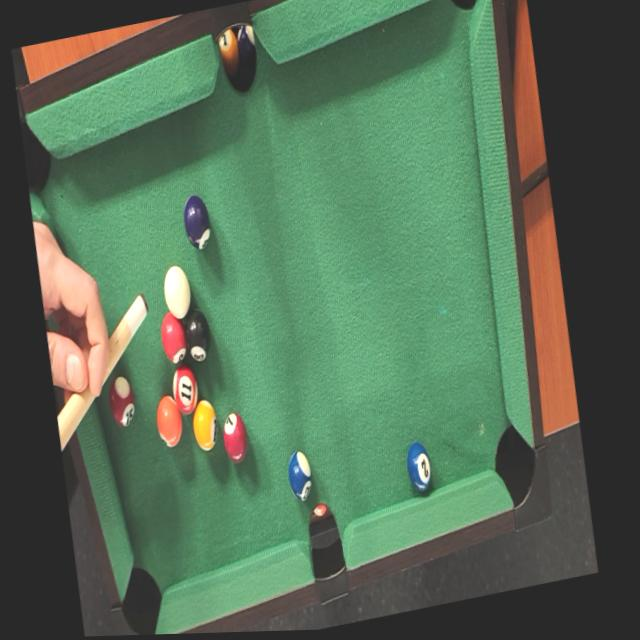cue ball: (154, 258, 195, 321)
other: (172, 181, 218, 260), (160, 353, 206, 428), (148, 381, 190, 459), (102, 369, 143, 441), (183, 392, 225, 461), (279, 438, 319, 509), (152, 297, 192, 368), (397, 437, 440, 502), (214, 406, 253, 471), (180, 302, 217, 364)
